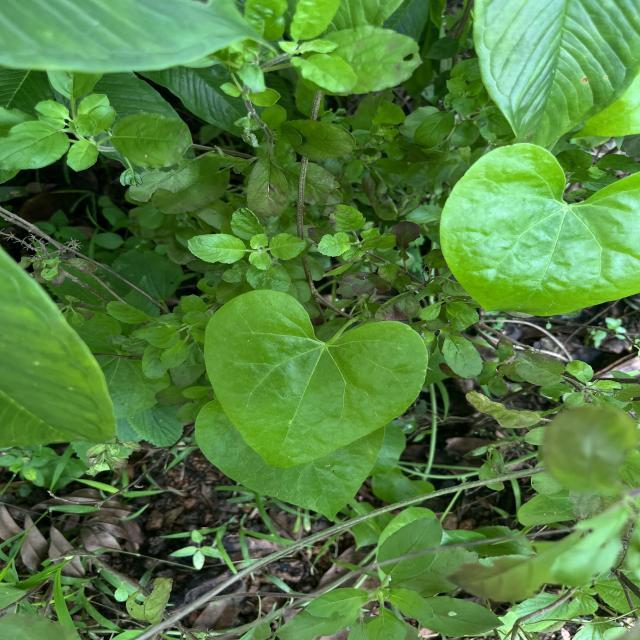Tinospora cordifolia: (200, 286, 430, 471), (437, 141, 640, 318)
